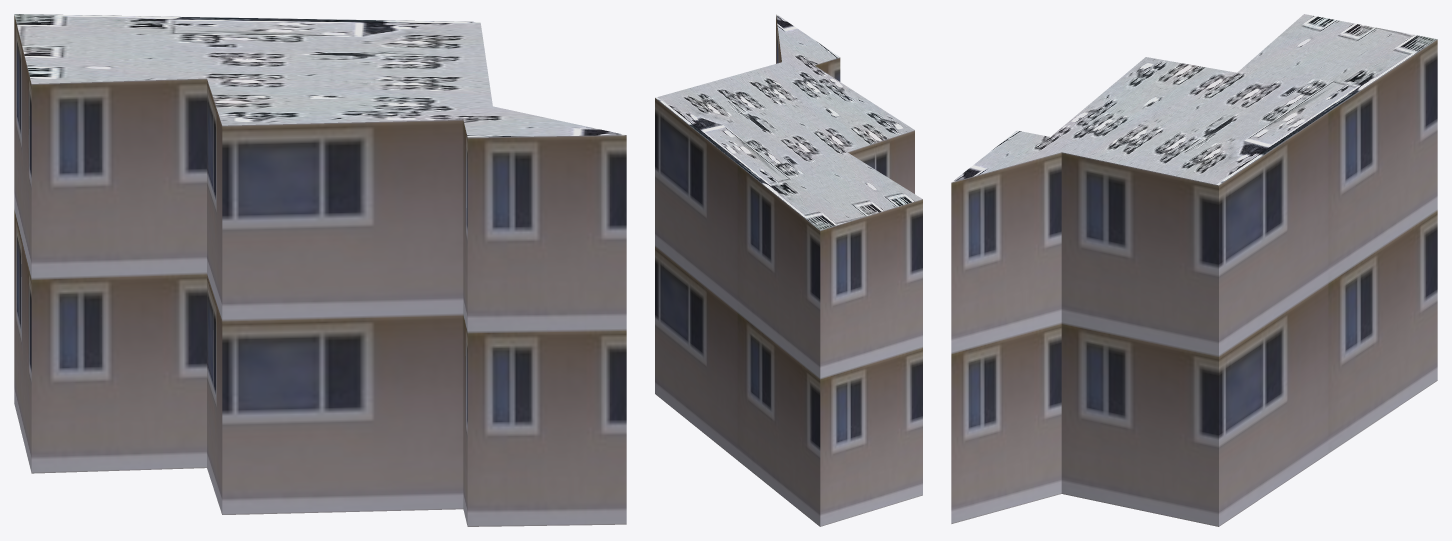
Rendered from ResTex__3170.fbx.
The picture shows the model from 3 angles, left to right: view 1: azimuth 30°, elevation 25°; view 2: azimuth 150°, elevation 25°; view 3: azimuth 270°, elevation 25°; orthographic projection. The views are drawn at different scales.
Visible parts, largest first — view 1: CityEngineMaterial_21_m, CityEngineMaterial_2_m; view 2: CityEngineMaterial_21_m, CityEngineMaterial_2_m; view 3: CityEngineMaterial_21_m, CityEngineMaterial_2_m.
Part boxes in pixels (x1,y1,x2,y2): CityEngineMaterial_21_m: (14, 15, 626, 526); CityEngineMaterial_2_m: (14, 14, 624, 137); CityEngineMaterial_21_m: (655, 15, 922, 526); CityEngineMaterial_2_m: (655, 14, 922, 230); CityEngineMaterial_21_m: (951, 39, 1437, 526); CityEngineMaterial_2_m: (952, 14, 1437, 185).
Bounding box in the file's own units: 6.45 × 6 × 7.74.
Materials: 2 (2 with a texture image).
